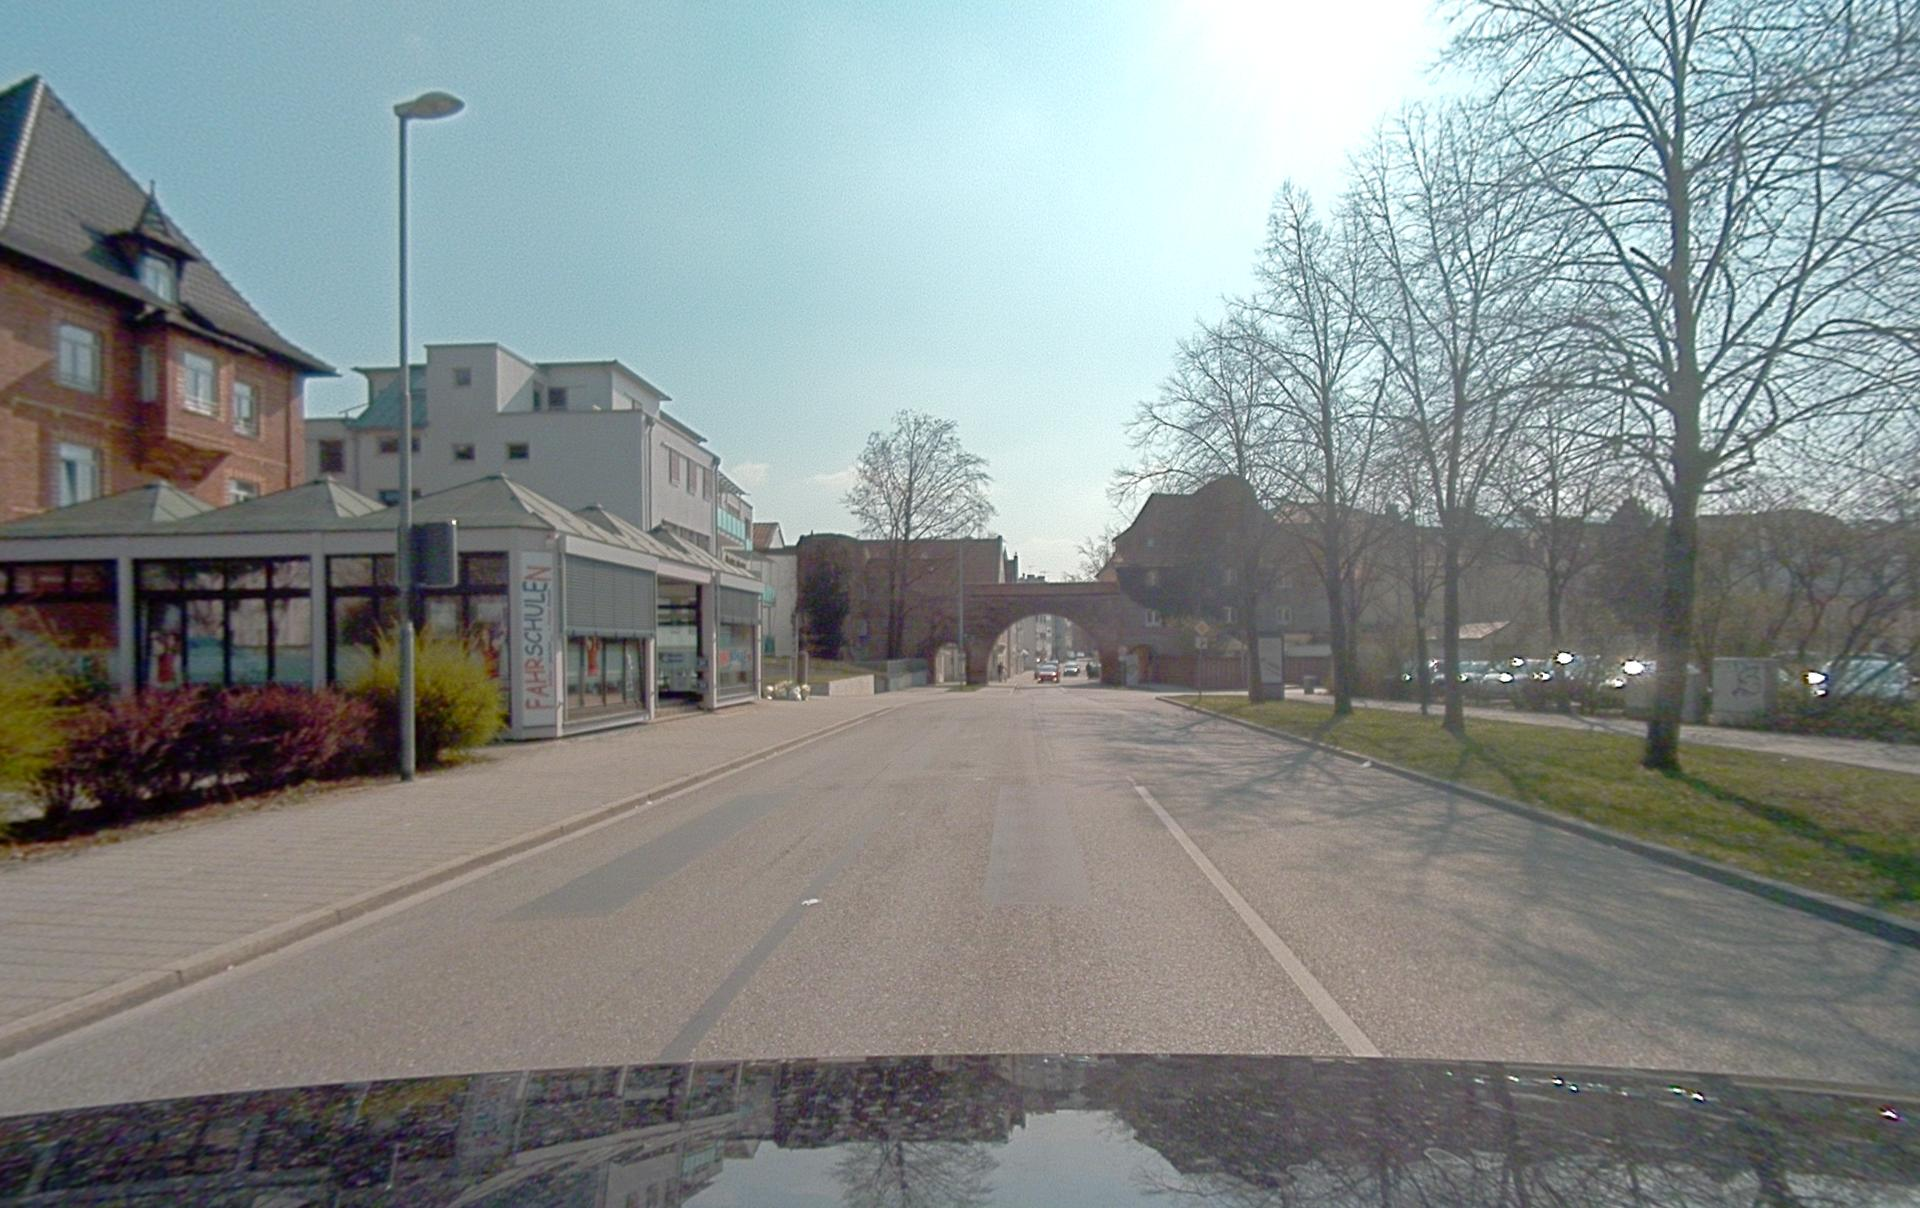car: (1803, 655, 1917, 702), (1034, 661, 1060, 683)
traffic sign: (716, 507, 750, 544)
